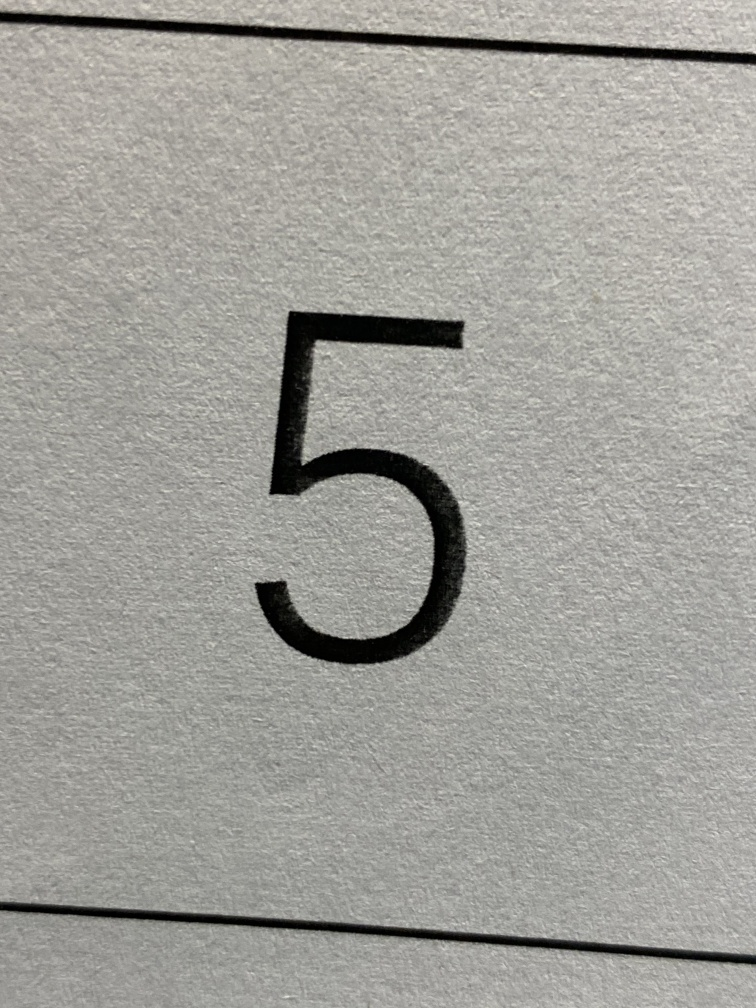five: (176, 239, 544, 743)
